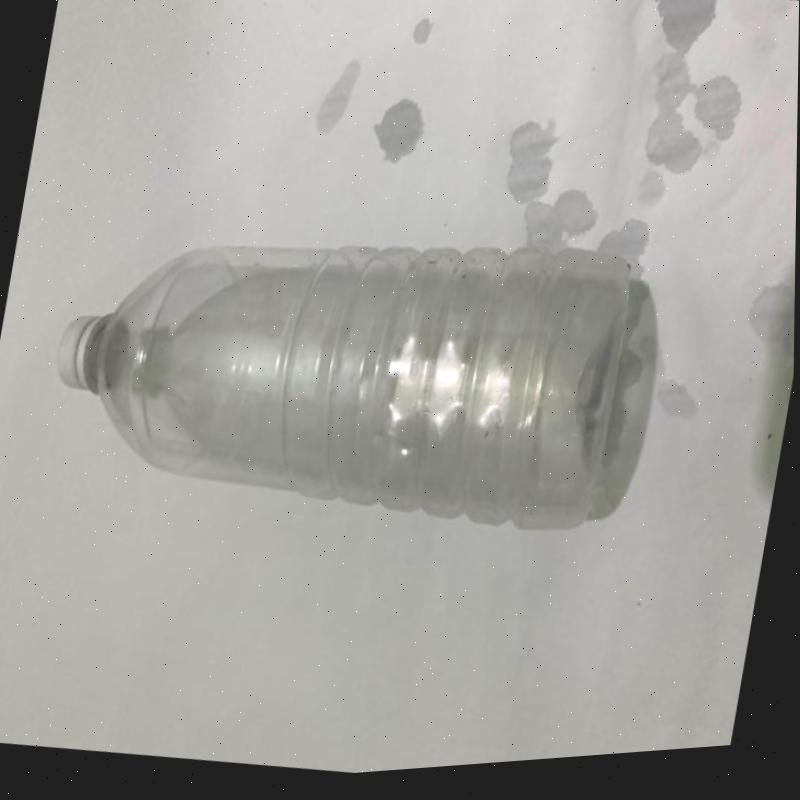botella: (33, 171, 651, 583)
